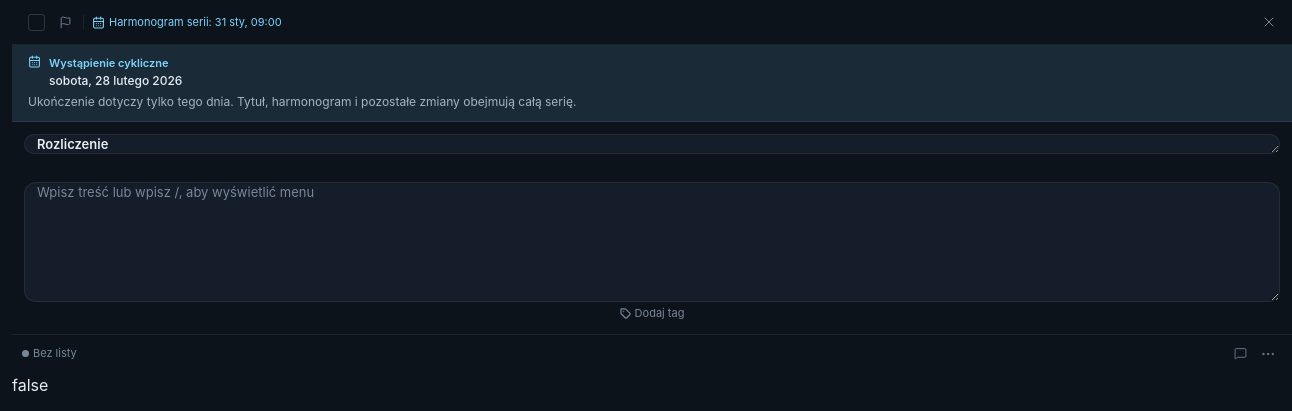
TaskDetail virtual occurrence semantics › shows the occurrence date and completes only that date
Check: the element named "Wybrane wystąpienie cykliczne" shows "sobota, 28 lutego 2026", box [49,72,182,88]
Check: the text box named "Tytuł całej serii" is shown, box [24,134,1280,154]
Click the button named "Oznacz jako wykonane wystąpienie z sobota, 28 lutego 2026": (36, 22) [24,10,48,34]
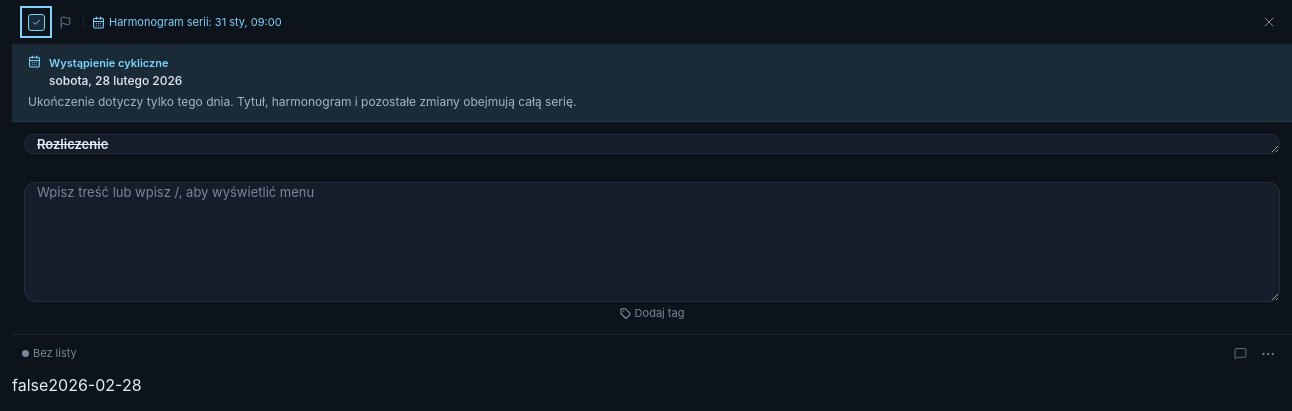
Check: the text with test id "source-done" reads "false", box [12,375,48,395]
Check: the text with test id "completed-dates" reads "2026-02-28", box [48,375,142,395]
Check: the button named "Oznacz jako niewykonane wystąpienie z sobota, 28 lutego 2026" is shown, box [24,10,48,34]
